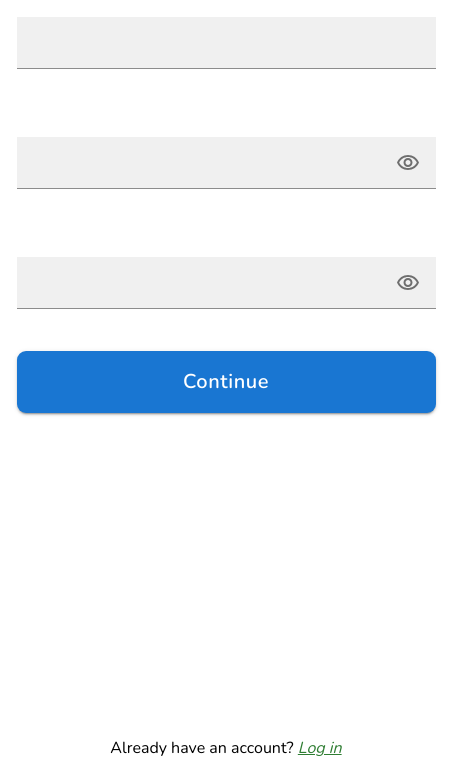
Components: CredentialsFormController › should set an error if password and confirmPassword do not match
Заповнюємо поля
Type "test@gmail.com" into the field named "email" at (226, 43), box [16,17,436,69]
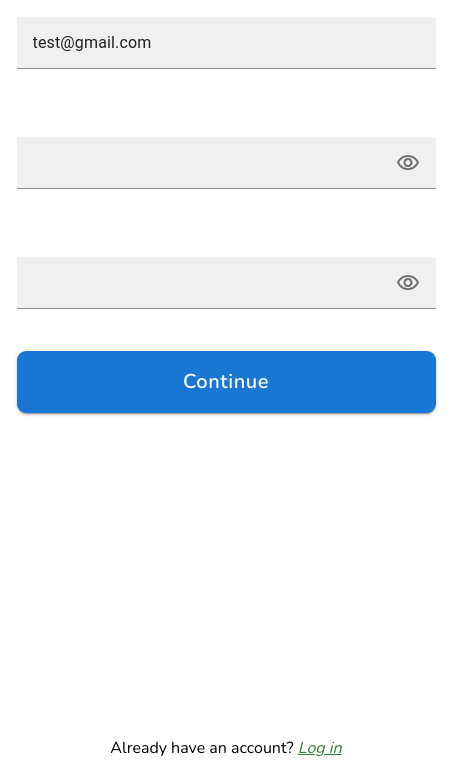
Type "password123" into the password field named "password" at (226, 163), box [16,137,436,189]
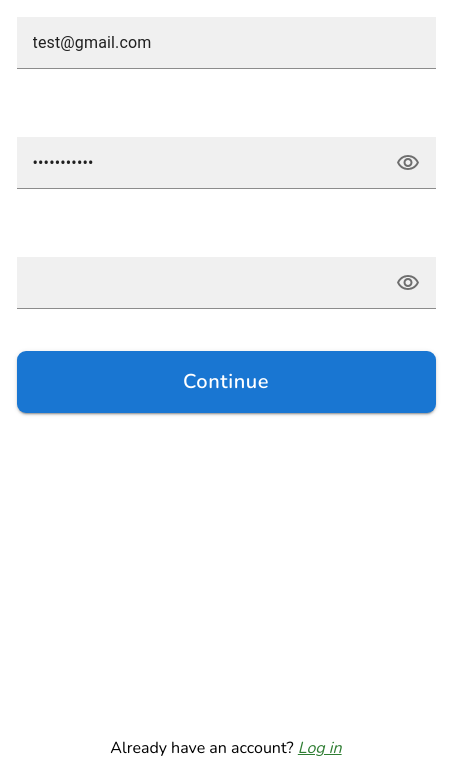
Type "different123" into the password field named "confirmPassword" at (226, 283), box [16,257,436,309]
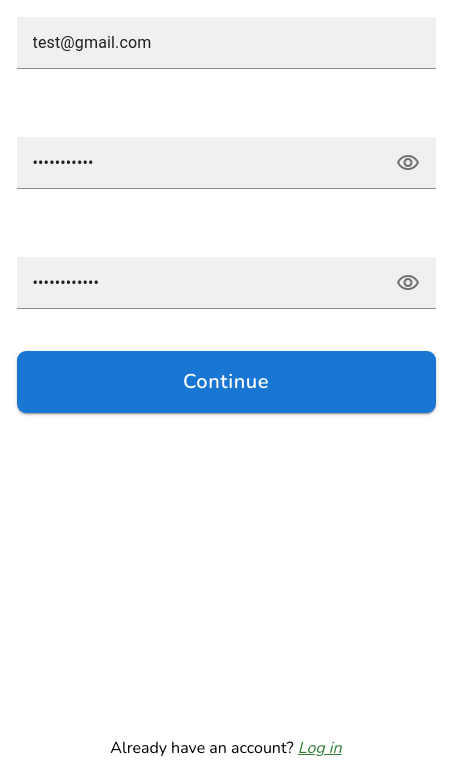
Клікові події
Click the button "Continue" at (226, 382), box [16,351,436,413]
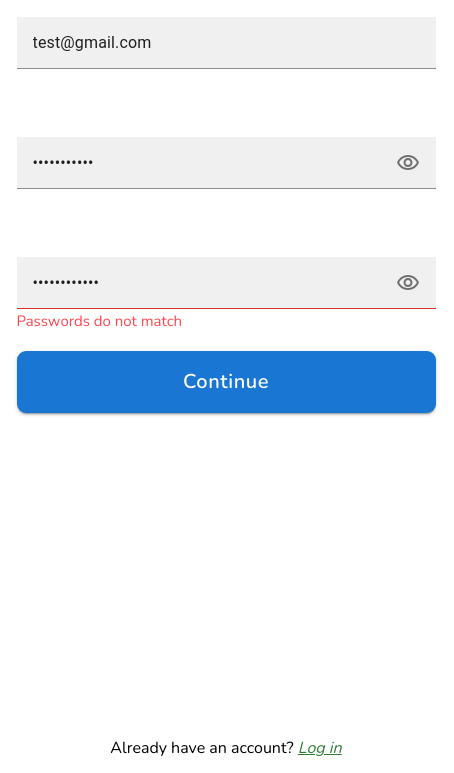
Expected: the text "Passwords do not match" is shown, [16,314,182,329]
